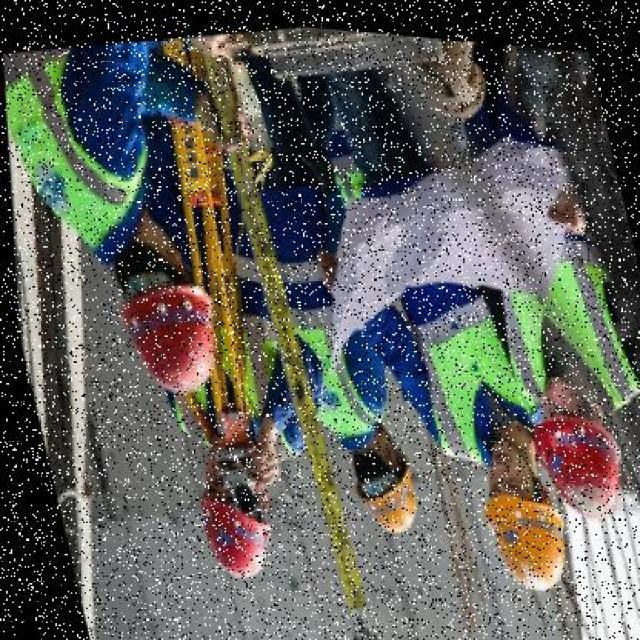helmet: (519, 382, 639, 531), (103, 265, 225, 393), (465, 466, 569, 596), (182, 463, 280, 587), (334, 429, 418, 531)
vest: (1, 34, 151, 267), (388, 263, 535, 459), (480, 237, 635, 403)
